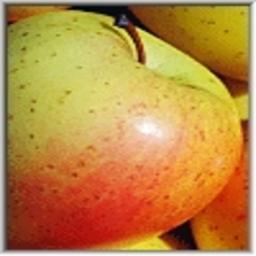apple: (6, 9, 243, 250)
